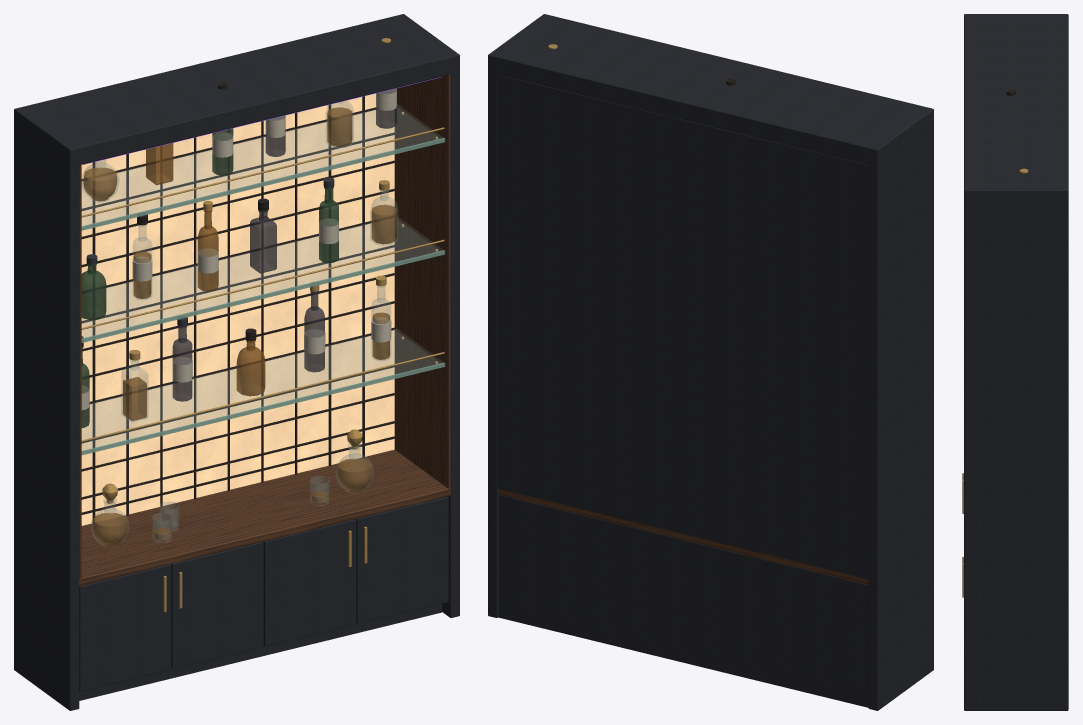
Rendered from bottle_shelf.glb.
3 renders of one model, left to right at view 1: azimuth 30°, elevation 25°; view 2: azimuth 150°, elevation 25°; view 3: azimuth 270°, elevation 25°, orthographic. The views are drawn at different scales.
Visible parts, largest first — view 1: part_frame_LOD0, part_back_LOD0, part_shelf_1_LOD0, part_shelf_2_LOD0, part_shelf_3_LOD0, part_bottle_2_LOD0, part_bottle_10_LOD0, part_bottle_9_LOD0, part_bottle_4_LOD0, part_bottle_19_LOD0, part_bottle_20_LOD0, part_bottle_5_LOD0 (+12 smaller); view 2: part_frame_LOD0; view 3: part_frame_LOD0.
Boxes of the visible parts, x1=… form: part_frame_LOD0: x1=14, y1=14, x2=459, y2=710; part_back_LOD0: x1=81, y1=93, x2=394, y2=525; part_shelf_1_LOD0: x1=81, y1=329, x2=445, y2=455; part_shelf_2_LOD0: x1=81, y1=218, x2=445, y2=342; part_shelf_3_LOD0: x1=81, y1=104, x2=445, y2=230; part_bottle_2_LOD0: x1=121, y1=349, x2=148, y2=422; part_bottle_10_LOD0: x1=250, y1=198, x2=276, y2=273; part_bottle_9_LOD0: x1=197, y1=200, x2=218, y2=291; part_bottle_4_LOD0: x1=236, y1=328, x2=265, y2=396; part_bottle_19_LOD0: x1=91, y1=483, x2=129, y2=547; part_bottle_20_LOD0: x1=335, y1=429, x2=373, y2=493; part_bottle_5_LOD0: x1=304, y1=281, x2=325, y2=372; part_frame_LOD0: x1=488, y1=14, x2=933, y2=710; part_frame_LOD0: x1=962, y1=14, x2=1068, y2=710.
Size of what is drawn, in the model's own units: 1.6 by 2.21 by 0.406.
Materials: 15 (9 with a texture image).
